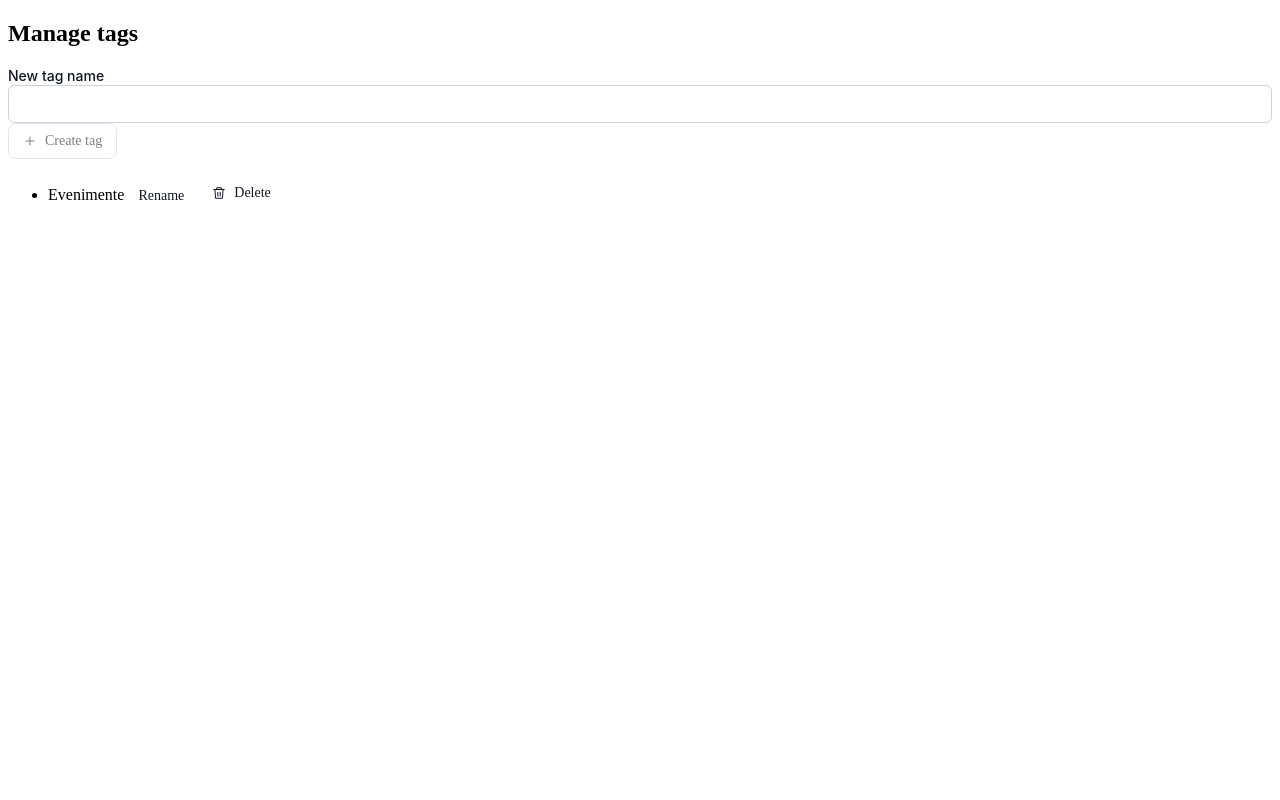
Test: TagManager › warns when a list will start showing every eligible article
This screenshot has width=1280, height=800.
Click the button "Delete": (242, 193) [198,175,285,211]
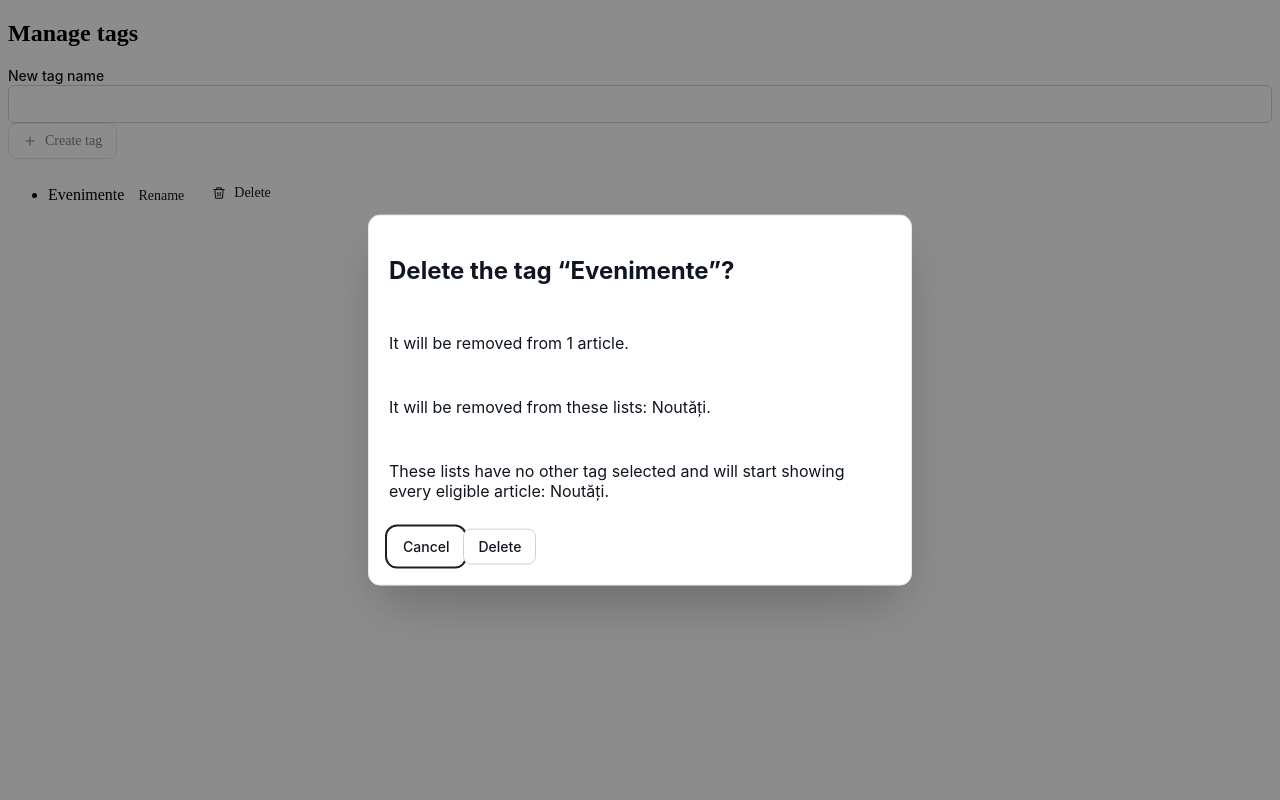
Check: the text with test id "tag-delete-unfiltered" shows "Noutăți", box [389,460,845,500]
